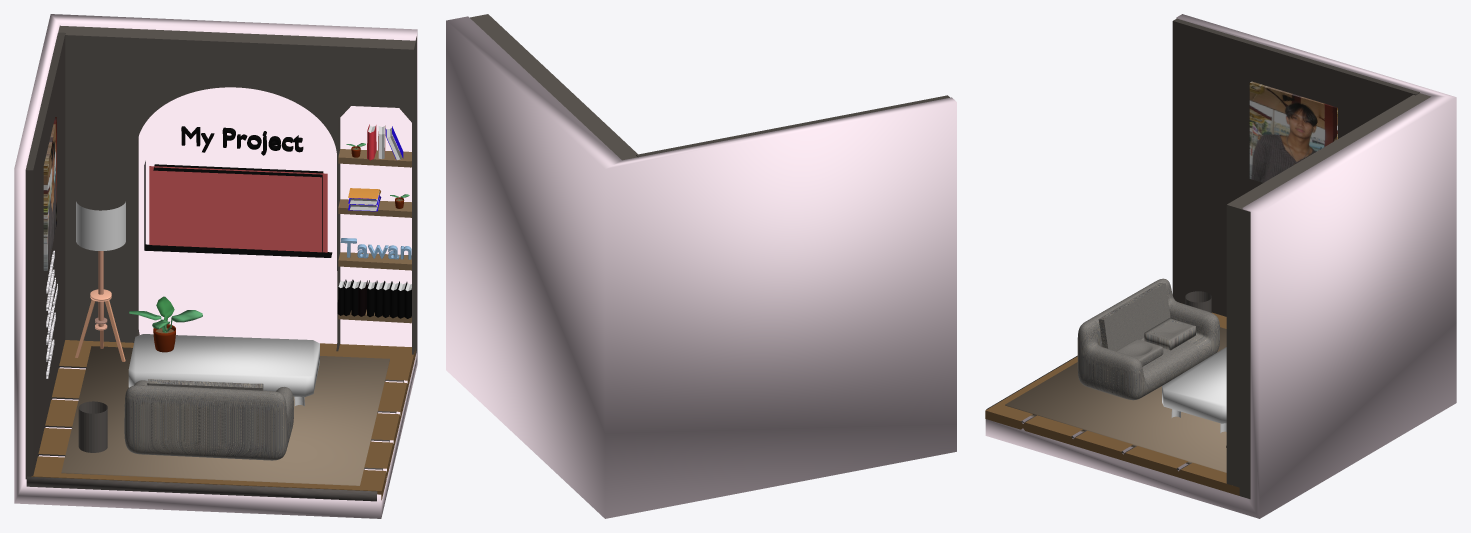
File: room3.glb
3 renders of one model, left to right at view 1: azimuth 30°, elevation 25°; view 2: azimuth 150°, elevation 25°; view 3: azimuth 270°, elevation 25°, orthographic. The views are drawn at different scales.
Visible parts, largest first — view 1: Cube, ื, Plane, Plane.018, Plane.001, Cube.002, Cube.004, Plane.006, Cube.003, Plane.007, Cylinder.004, Plane.016 (+9 smaller); view 2: Cube, ื, Cube.002; view 3: Cube, Cube.002, Plane, ื, Plane.001, Plane.016, Cube.004, Plane.006, Plane.005, Plane.003, Plane.002.
Boxes of the visible parts, x1,y1,x2,y2 form: Cube: [14, 14, 417, 518]; ื: [58, 25, 416, 355]; Plane: [61, 346, 389, 485]; Plane.018: [149, 166, 327, 252]; Plane.001: [124, 380, 293, 460]; Cube.002: [25, 32, 65, 479]; Cube.004: [31, 340, 415, 500]; Plane.006: [128, 334, 319, 396]; Cube.003: [26, 366, 403, 501]; Plane.007: [144, 161, 332, 257]; Cylinder.004: [76, 201, 125, 250]; Plane.016: [43, 117, 56, 270]; Cube: [446, 16, 956, 518]; ื: [470, 14, 637, 160]; Cube.002: [636, 95, 949, 157]; Cube: [985, 14, 1456, 518]; Cube.002: [1172, 18, 1419, 316]; Plane: [1005, 327, 1226, 472]; ื: [1226, 93, 1431, 499]; Plane.001: [1077, 278, 1219, 400]; Plane.016: [1249, 81, 1337, 182]; Cube.004: [985, 312, 1239, 495]; Plane.006: [1162, 347, 1226, 423]; Plane.005: [1098, 283, 1170, 350]; Plane.003: [1144, 318, 1195, 350]; Plane.002: [1116, 339, 1163, 366].
Size of the model in its own units: 6.99 by 5.01 by 6.99.
Materials: 51 (7 with a texture image).
